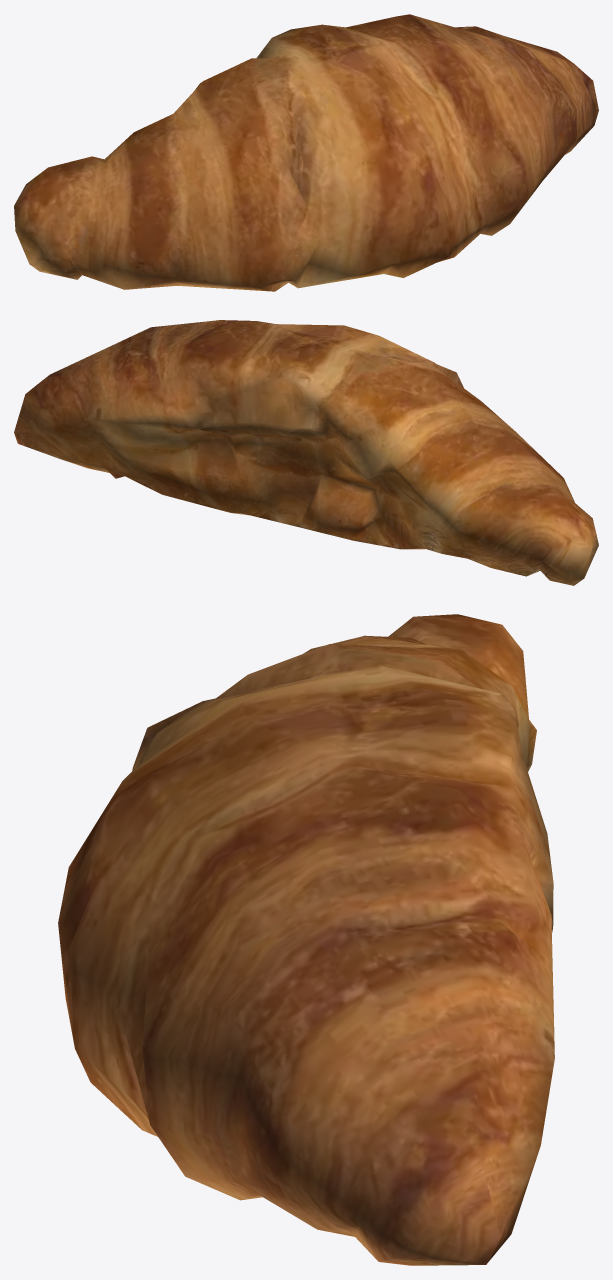
File: croissant.glb
3 renders of one model, top to bottom at view 1: azimuth 30°, elevation 25°; view 2: azimuth 150°, elevation 25°; view 3: azimuth 270°, elevation 25°, orthographic. The views are drawn at different scales.
Parts seen in each view (by area): view 1: croissant; view 2: croissant; view 3: croissant.
Boxes of the visible parts, <box> form: croissant: <box>14,14,598,291</box>; croissant: <box>14,320,598,585</box>; croissant: <box>58,614,554,1265</box>.
Bounding box in the file's own units: 0.1993 × 0.0617 × 0.075.
1 material, 1 textured.
